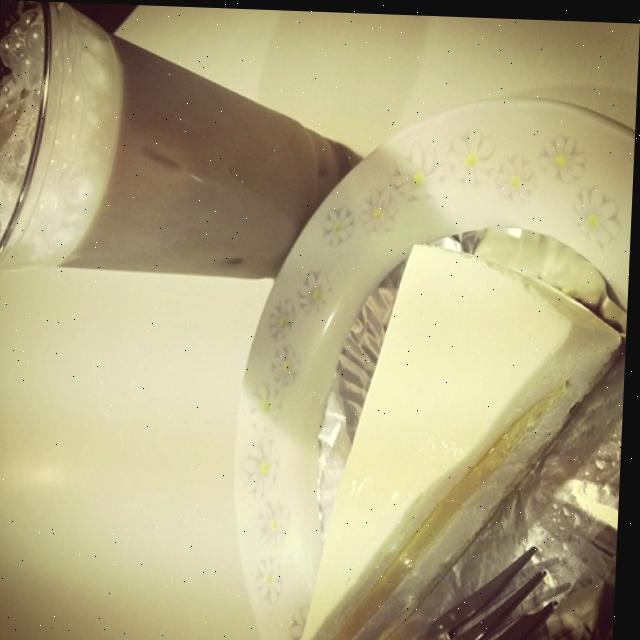蛋糕甜品: (257, 65, 631, 640)
